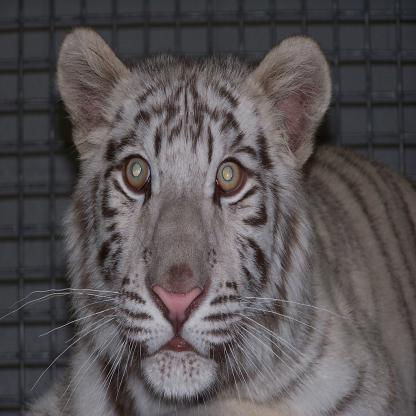Tiger: (0, 23, 416, 415)
